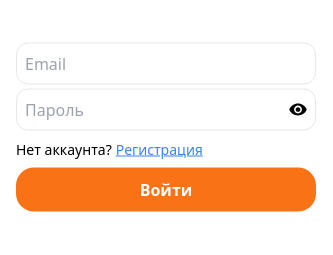
Scenario: Login › Проверка что рендерится кнопка войти и если поля пустые то будет ошибка у кадого поля Заполните поле
Click the button "Войти": click(166, 190) [16, 168, 316, 212]
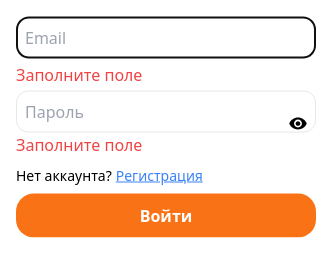
Now the text "Заполните поле" is shown 2 times, box [16, 64, 142, 86]; [16, 134, 142, 156]
